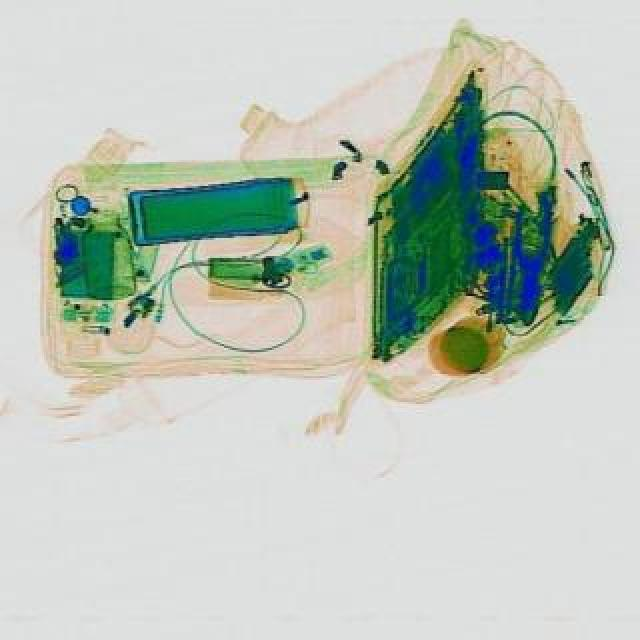wrench: (508, 196, 552, 324)
